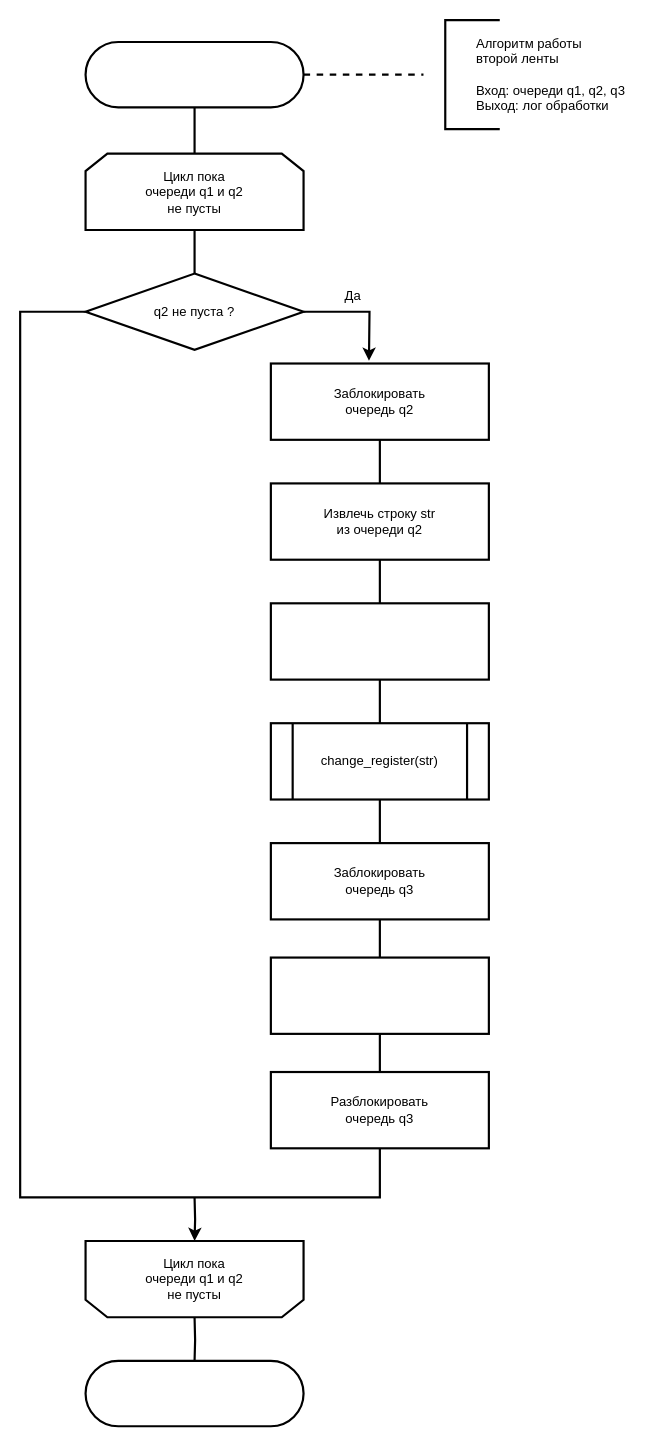
Some shapes in this 647 by 1445 pixel diagram are drawn without their labels. The centre of each missing label's shape, as x and y in pixels:
"Добавить str в очередь q3" goes at (379,995).
"Конец" goes at (194,1393).
"Начало" goes at (194,74).
"Разблокировать очередь q2" goes at (379,641).
